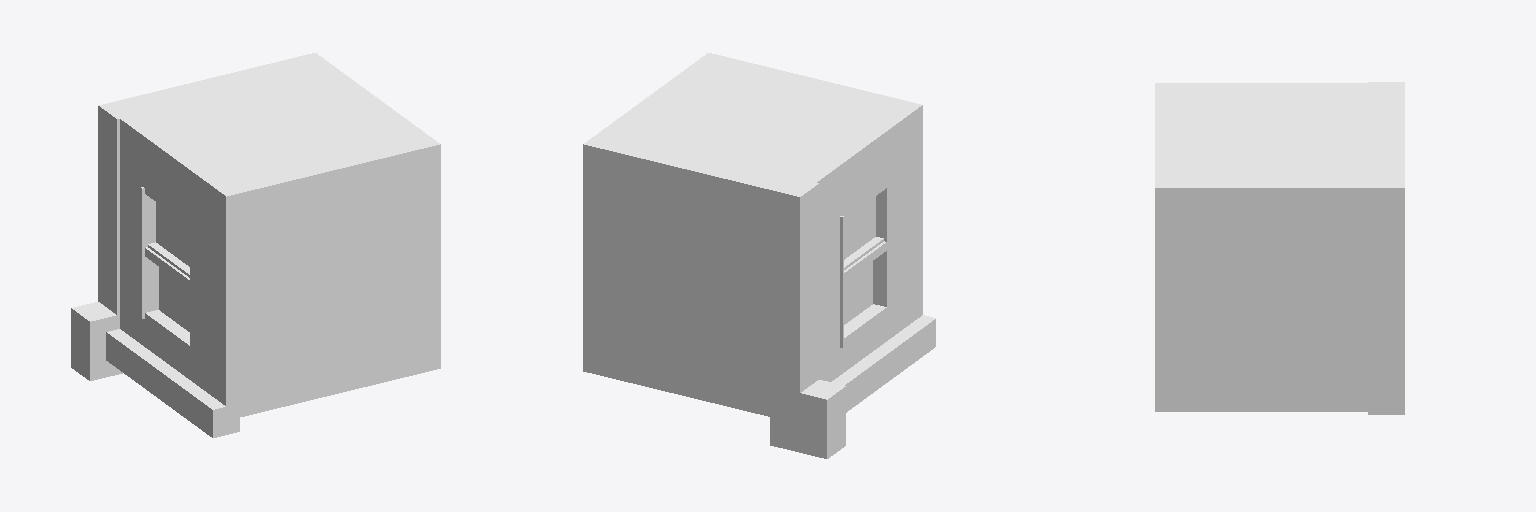
Rendered from Building1-Base-0.obj.
3 renders of one model, left to right at view 1: azimuth 30°, elevation 25°; view 2: azimuth 150°, elevation 25°; view 3: azimuth 270°, elevation 25°, orthographic.
Parts seen in each view (by area): view 1: object 1; view 2: object 1; view 3: object 1.
Boxes of the visible parts, x1=… form: object 1: x1=71, y1=53, x2=440, y2=437; object 1: x1=583, y1=53, x2=935, y2=458; object 1: x1=1155, y1=82, x2=1404, y2=414.
Size of the model in its own units: 90 by 90 by 80.